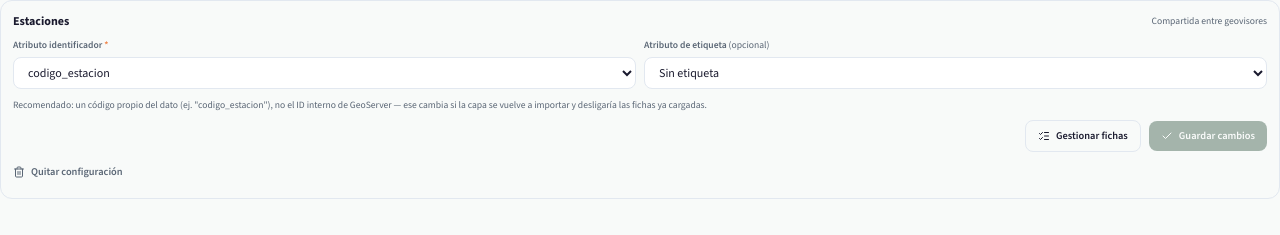
Test case: FichaCapaConfigRow — quitar la configuración › confirmar la quita y deja el selector de identificador en blanco para rehacerla
The image size is (1280, 235).
Expected: the dropdown labelled "Atributo identificador *" shows "codigo_estacion", [13, 57, 636, 89]
Click the button "Quitar configuración": (68, 172) [13, 163, 123, 180]
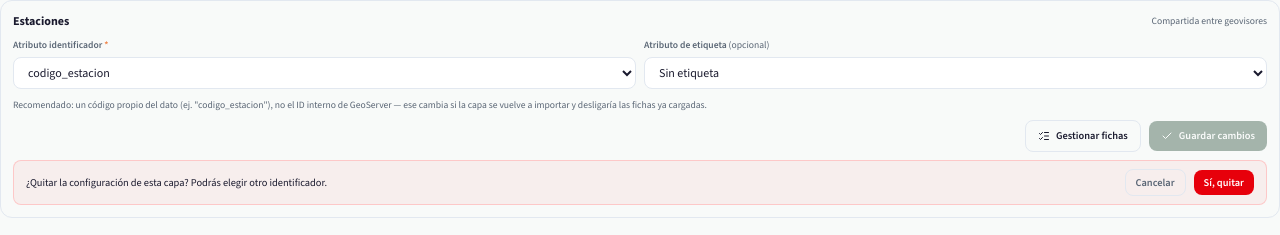
Click the button "Sí, quitar": (1224, 182) [1194, 170, 1254, 195]
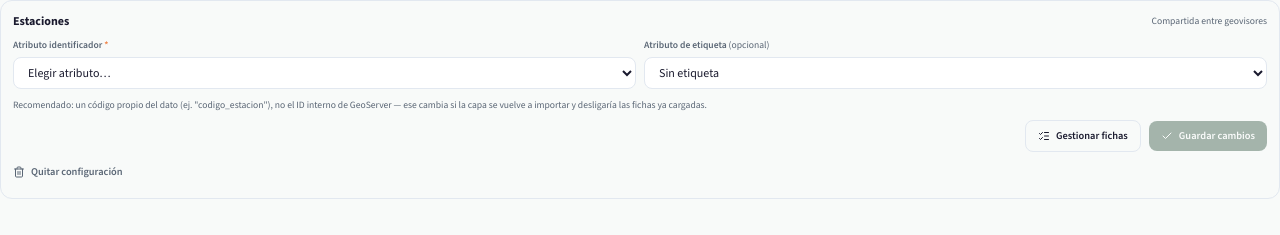
Now the dropdown labelled "Atributo identificador *" shows "Elegir atributo…", box [13, 57, 636, 89]
